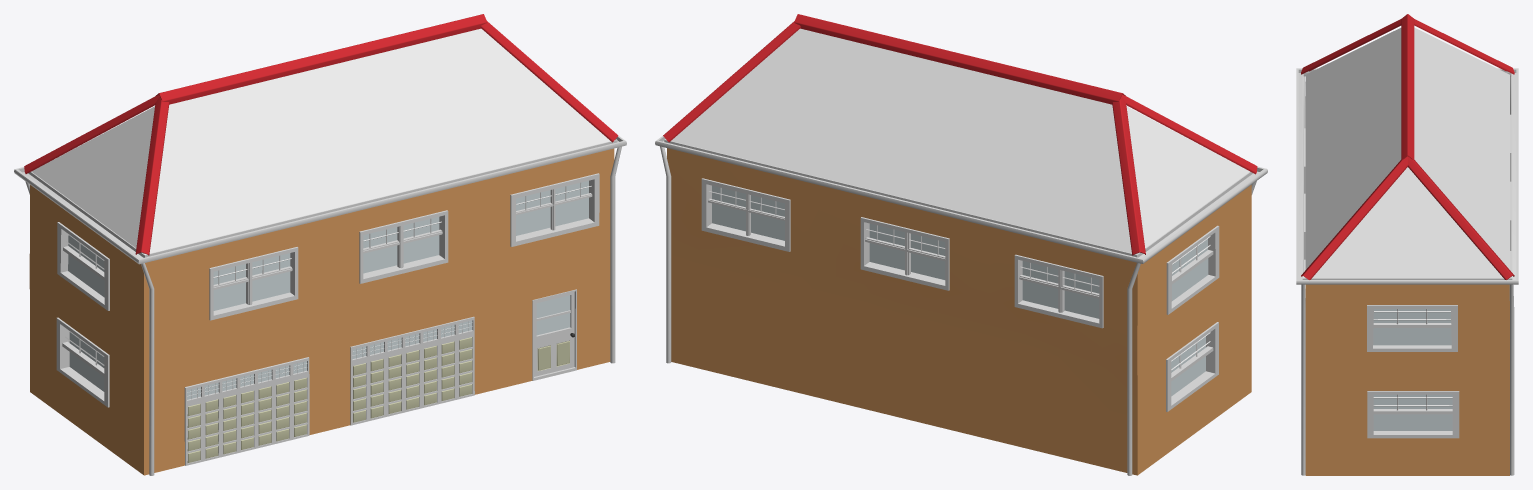
The picture shows the model from 3 angles, left to right: view 1: azimuth 30°, elevation 25°; view 2: azimuth 150°, elevation 25°; view 3: azimuth 270°, elevation 25°; orthographic projection. The views are drawn at different scales.
Visible parts, largest first — view 1: Cube.009; view 2: Cube.009; view 3: Cube.009.
Part boxes in pixels (bbox=[...]): Cube.009: bbox=[14, 14, 626, 475]; Cube.009: bbox=[655, 14, 1267, 475]; Cube.009: bbox=[1296, 14, 1518, 475].
Size of the model in its own units: 51.45 by 32.51 by 22.74.
